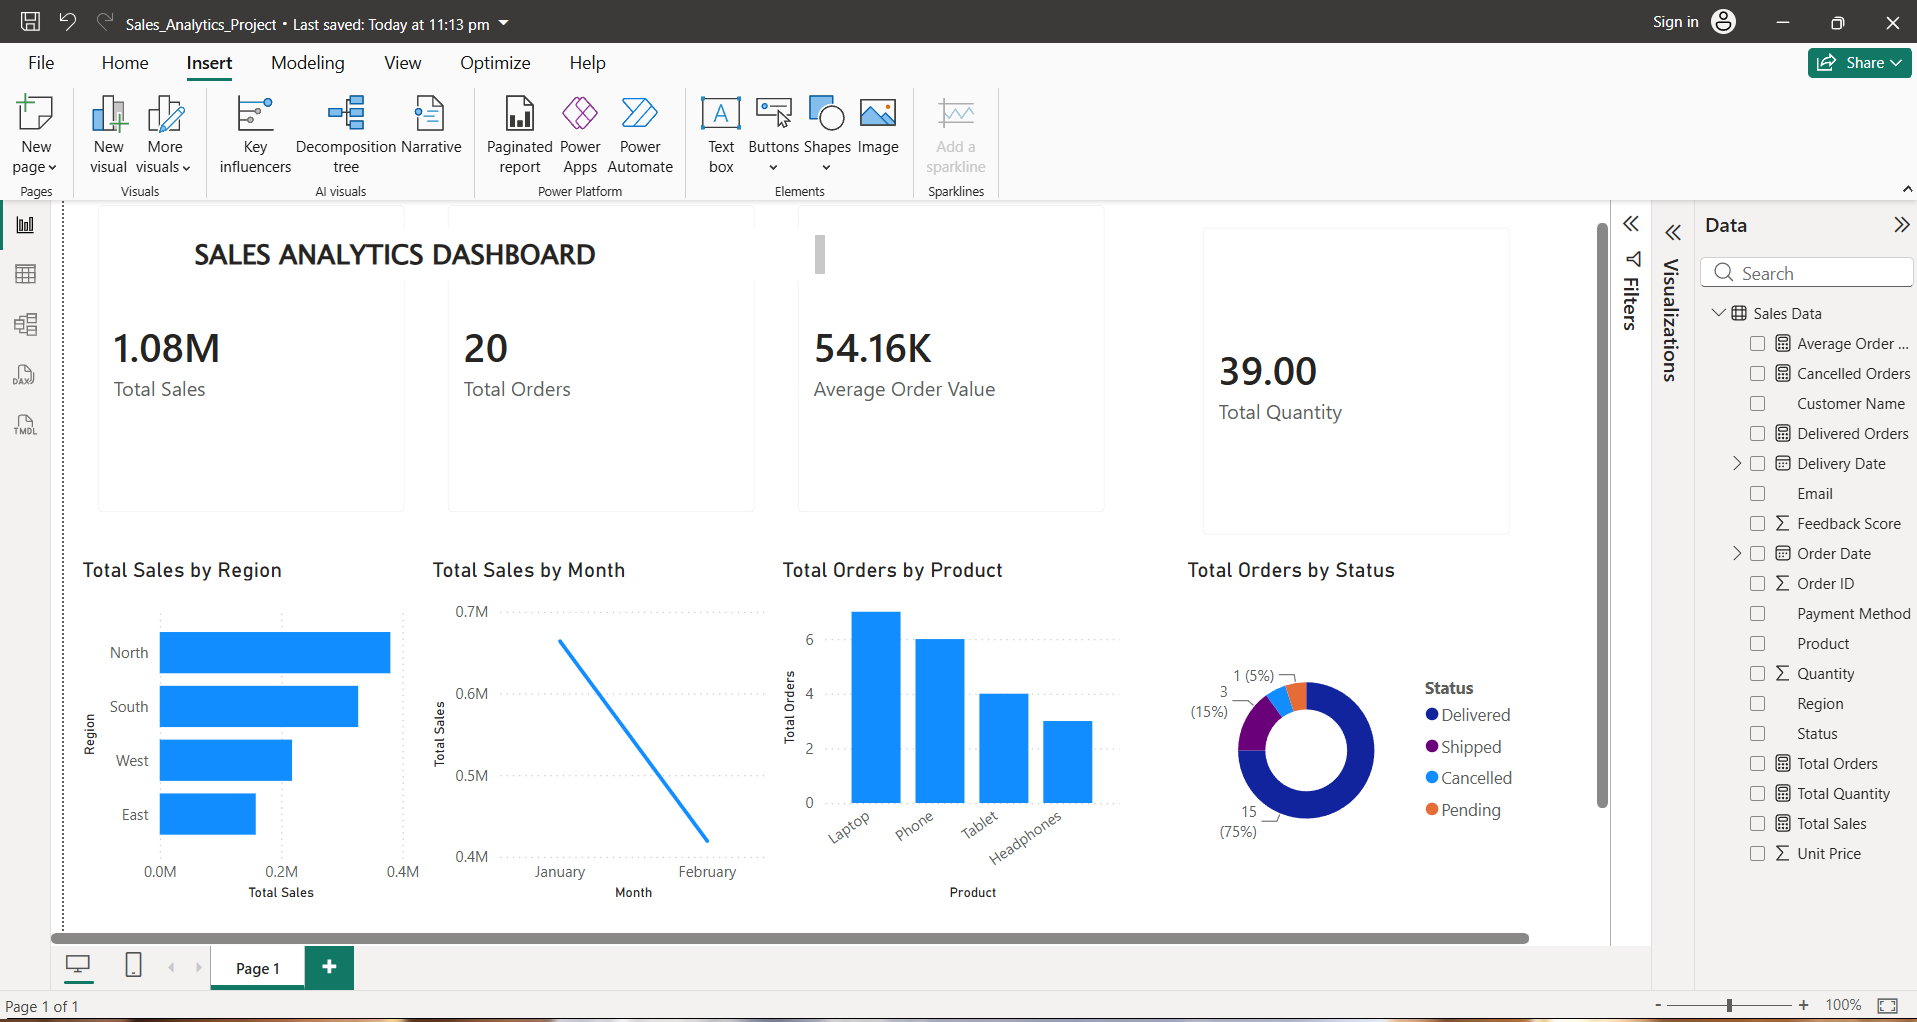

The dashboard page shown, as its layout file describes it:
{"tool":"powerbi","page":{"name":"Page 1","canvas":[1280,720],"ordinal":0},"visuals":[{"type":"cardVisual","fields":{"Data":["Sales Data.Total Sales"]},"box":[10,0,280,280],"z":0},{"type":"cardVisual","fields":{"Data":["Sales Data.Total Orders"]},"box":[290,0,280,280],"z":1000},{"type":"cardVisual","fields":{"Data":["Sales Data.Average Order Value"]},"box":[570,0,280,280],"z":2000},{"type":"cardVisual","fields":{"Data":["Sales Data.Total Quantity"]},"box":[894,18,280,280],"z":3000},{"type":"clusteredBarChart","fields":{"Category":["Sales Data.Region"],"Y":["Sales Data.Total Sales"]},"box":[10,298,280,280],"z":4000},{"type":"lineChart","fields":{"Category":["Sales Data.Order Date.Variation.Date Hierarchy.Month"],"Y":["Sales Data.Total Sales"]},"box":[290,298,280,280],"z":5000},{"type":"clusteredColumnChart","fields":{"Category":["Sales Data.Product"],"Y":["Sales Data.Total Orders"]},"box":[570,298,280,280],"z":6000},{"type":"donutChart","fields":{"Category":["Sales Data.Status"],"Y":["Sales Data.Total Orders"]},"box":[894,298,280,280],"z":6001},{"type":"textbox","box":[100,36,514,42],"z":6002}]}

Visuals, with their boxes on the page's 1280x720 design canvas (x1, y1, x2, y2). These are canvas units, not pixel positions in the 1917x1022 screenshot, which may show the page scaled, cropped or inside an application window:
cardVisual - Sales Data.Total Sales: pyautogui.locateOnScreen(10, 0, 290, 280)
cardVisual - Sales Data.Total Orders: pyautogui.locateOnScreen(290, 0, 570, 280)
cardVisual - Sales Data.Average Order Value: pyautogui.locateOnScreen(570, 0, 850, 280)
cardVisual - Sales Data.Total Quantity: pyautogui.locateOnScreen(894, 18, 1174, 298)
clusteredBarChart - Sales Data.Region x Sales Data.Total Sales: pyautogui.locateOnScreen(10, 298, 290, 578)
lineChart - Sales Data.Order Date.Variation.Date Hierarchy.Month x Sales Data.Total Sales: pyautogui.locateOnScreen(290, 298, 570, 578)
clusteredColumnChart - Sales Data.Product x Sales Data.Total Orders: pyautogui.locateOnScreen(570, 298, 850, 578)
donutChart - Sales Data.Status x Sales Data.Total Orders: pyautogui.locateOnScreen(894, 298, 1174, 578)
textbox: pyautogui.locateOnScreen(100, 36, 614, 78)
